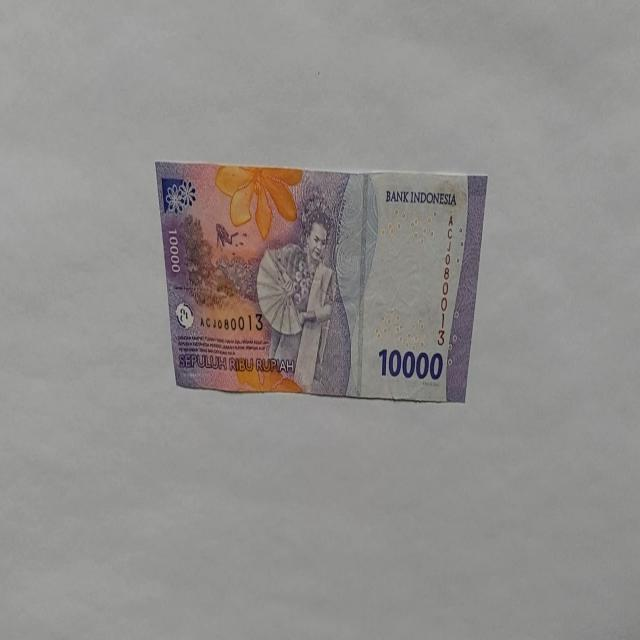sepuluh ribu rupiah: (154, 160, 488, 404)
